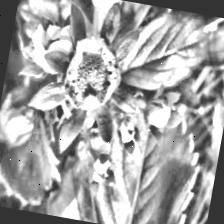Blossom Blight: (59, 34, 126, 114)
